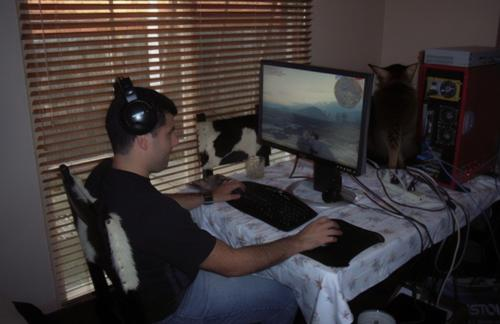cat: (367, 64, 425, 168)
person: (84, 86, 339, 324)
person/hand: (297, 216, 344, 250), (213, 180, 246, 202)
person/head: (104, 87, 179, 174)
tvmonitor: (258, 60, 374, 214)
